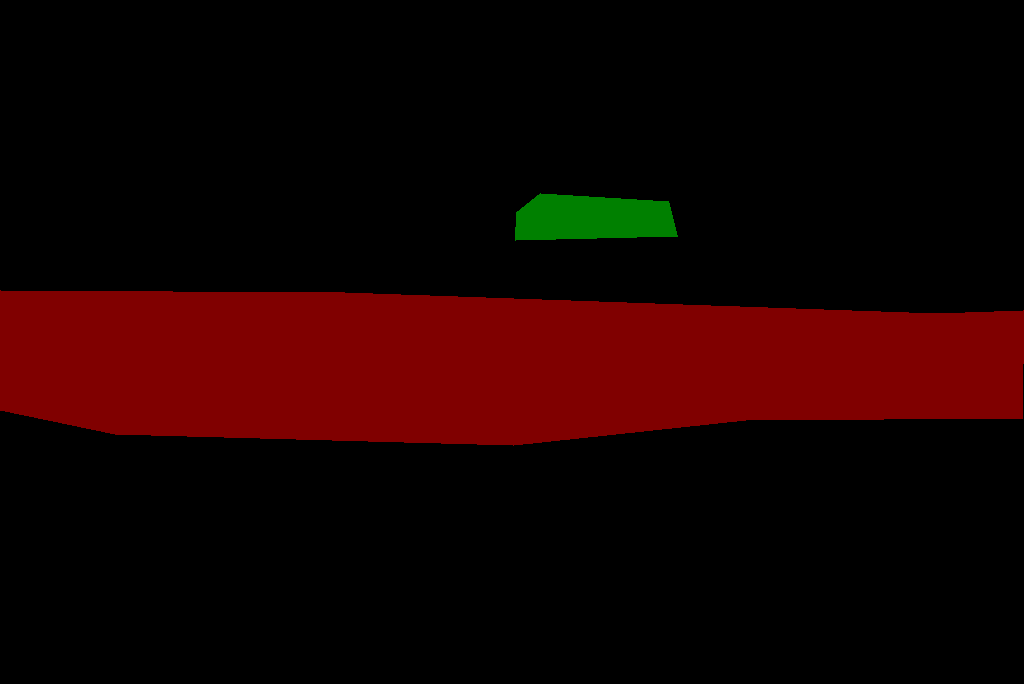fire: (0, 290, 1023, 445), (515, 193, 677, 240)
